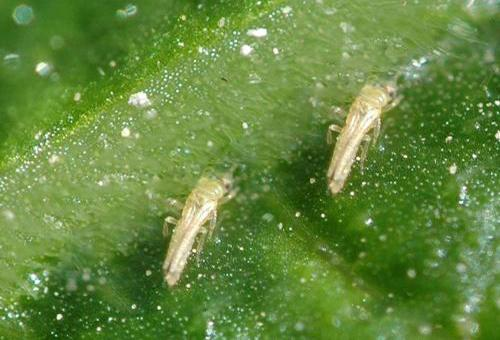thrips: (322, 76, 404, 195), (161, 163, 238, 286)
